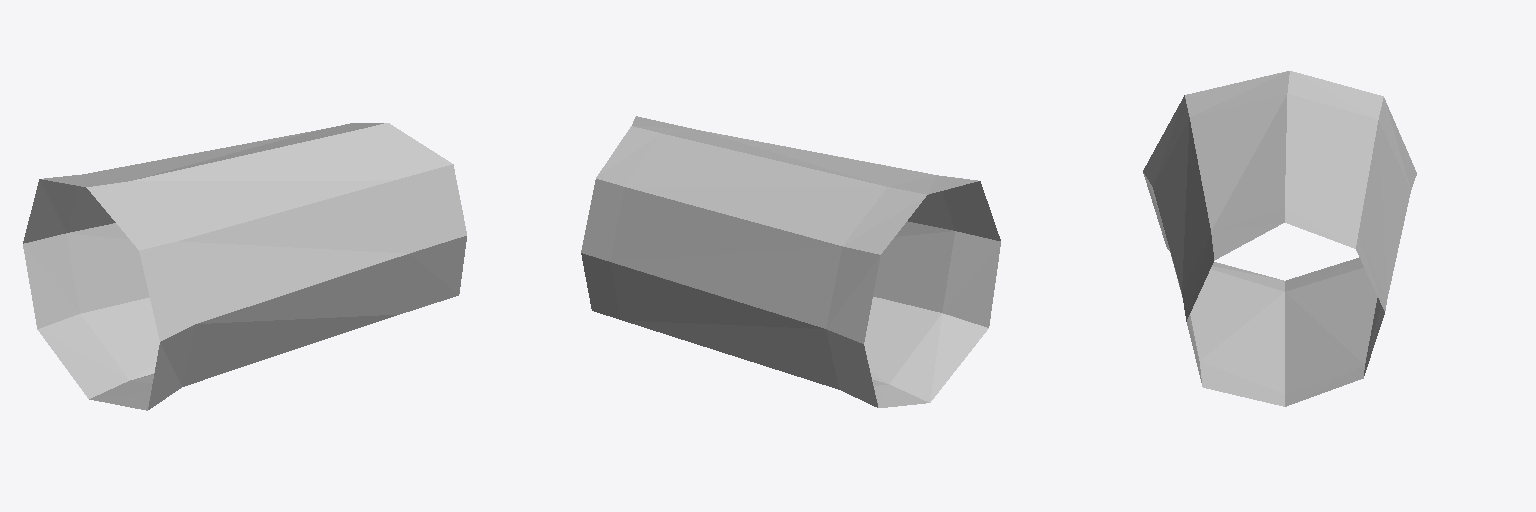
The model's file is low_arms_R.obj.
The picture shows the model from 3 angles: view 1: azimuth 30°, elevation 25°; view 2: azimuth 150°, elevation 25°; view 3: azimuth 270°, elevation 25°; orthographic projection.
Visible parts, largest first — view 1: KERORO; view 2: KERORO; view 3: KERORO.
Boxes of the visible parts, <box> form: KERORO: <box>23,123,466,410</box>; KERORO: <box>581,116,1000,407</box>; KERORO: <box>1143,71,1416,406</box>.
Size of the model in its own units: 0.9757 by 0.595 by 0.7042.